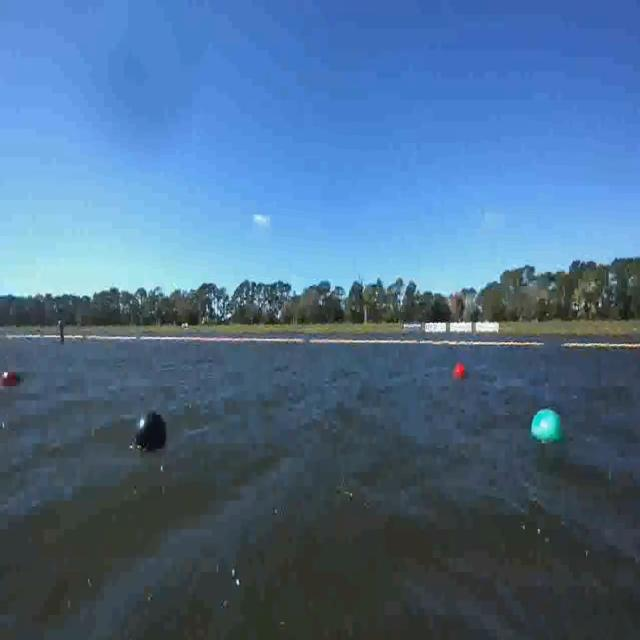black-buoy: (132, 407, 168, 455)
green-buoy: (530, 408, 564, 444)
red-buoy: (0, 366, 21, 391), (455, 362, 467, 379)
